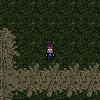Victim: (44, 39, 55, 60)
